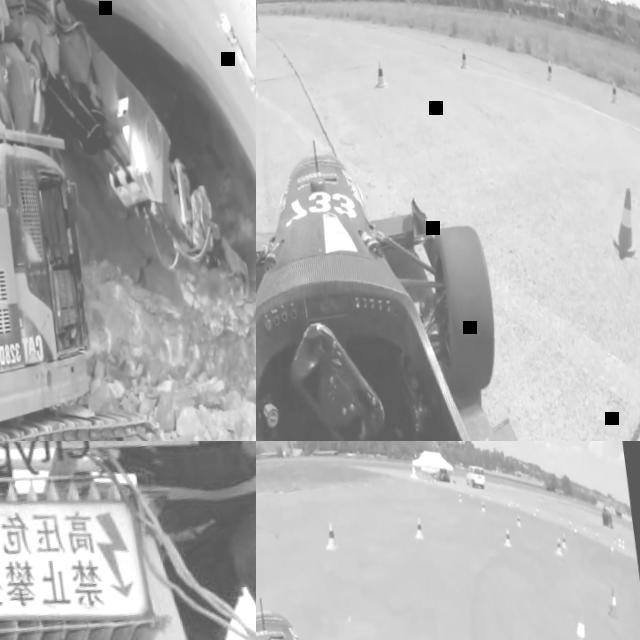NO-Safety Vest: (106, 441, 256, 522)
Person: (70, 441, 256, 640), (17, 207, 68, 339), (256, 0, 262, 32)
Safety Cone: (607, 182, 640, 270), (565, 608, 594, 640), (373, 61, 389, 97), (605, 587, 621, 621), (323, 521, 339, 555), (605, 79, 621, 111), (458, 47, 473, 77), (543, 58, 557, 86), (412, 515, 426, 543), (502, 527, 514, 549), (555, 537, 565, 558), (561, 533, 569, 550), (516, 514, 523, 529), (480, 501, 487, 514), (458, 490, 465, 502), (621, 537, 626, 552), (618, 535, 623, 550), (635, 544, 638, 559)
Safety Vest: (24, 231, 40, 261)
machinery: (0, 0, 256, 441)
vehicle: (256, 111, 554, 441), (256, 571, 500, 640), (466, 463, 487, 491)
